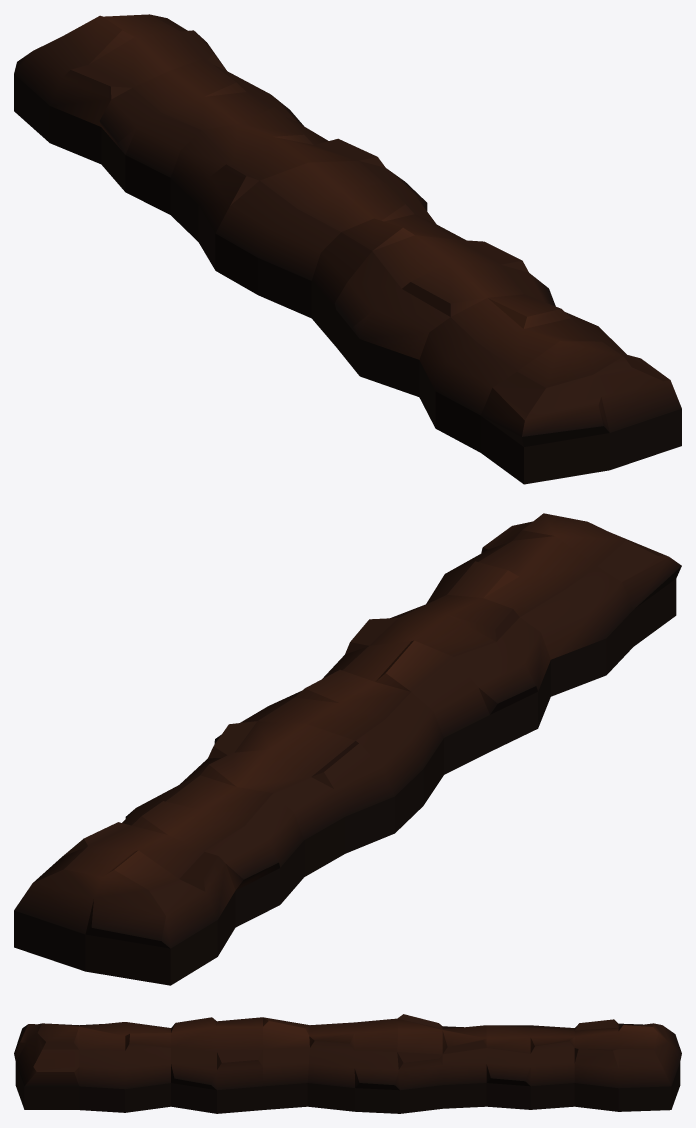
The model's file is JoshPlot.fbx.
3 views of the same model, one above another, from view 1: azimuth 30°, elevation 25°; view 2: azimuth 150°, elevation 25°; view 3: azimuth 270°, elevation 25° (orthographic). The views are drawn at different scales.
Parts seen in each view (by area): view 1: polySurface5; view 2: polySurface5; view 3: polySurface5.
Part boxes in pixels (x1=…): polySurface5: x1=14, y1=14, x2=681, y2=484; polySurface5: x1=14, y1=513, x2=681, y2=985; polySurface5: x1=14, y1=1014, x2=681, y2=1113.
Bounding box in the file's own units: 233 × 116 × 1128.
